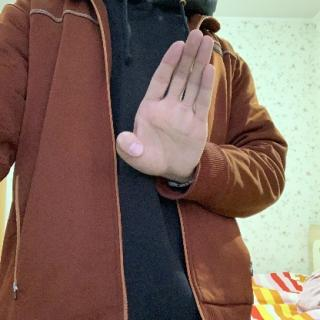KAAF: (114, 25, 220, 186)
